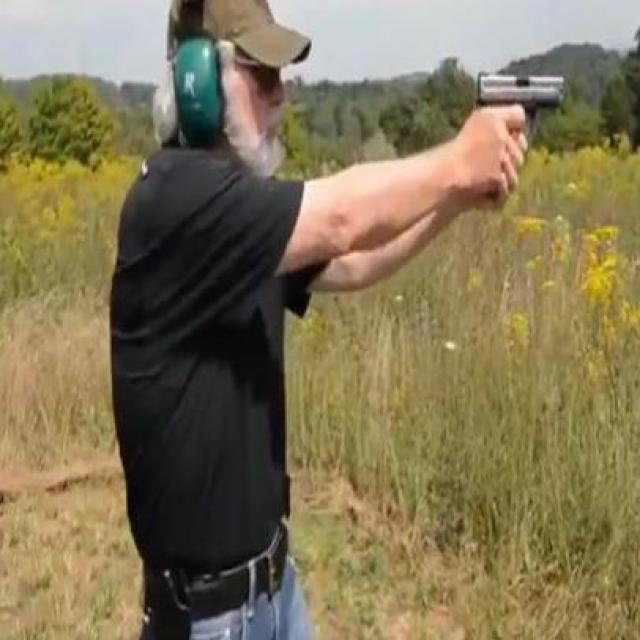weapon: (476, 70, 568, 201)
